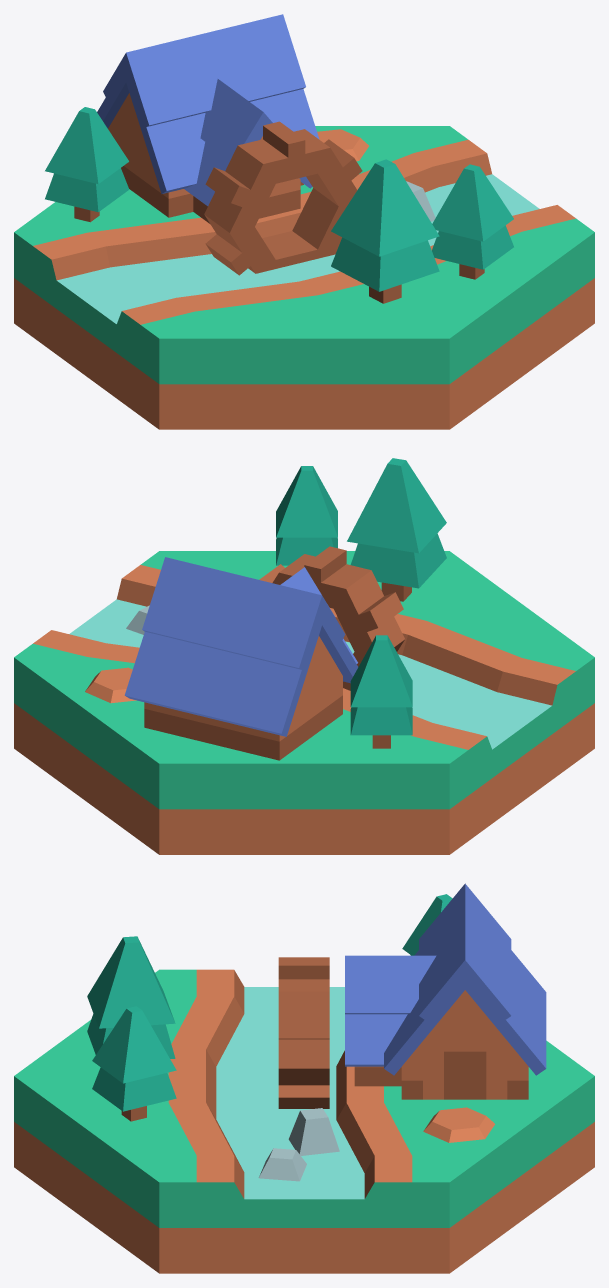
Rendered from Building Water.glb.
3 views of the same model, one above another, from view 1: azimuth 30°, elevation 25°; view 2: azimuth 150°, elevation 25°; view 3: azimuth 270°, elevation 25° (orthographic).
Parts seen in each view (by area): view 1: building_water, building, wheel, tree.001, tree.002, tree, path; view 2: building_water, building, tree.001, wheel, tree.002, tree, path; view 3: building_water, building, wheel, tree, tree.001, path, rock.001, rock, tree.002.
Boxes of the visible parts, bbox=[...] form: building_water: bbox=[14, 126, 594, 429]; building: bbox=[97, 14, 319, 223]; wheel: bbox=[204, 121, 362, 275]; tree.001: bbox=[331, 159, 439, 303]; tree.002: bbox=[45, 107, 129, 222]; tree: bbox=[432, 164, 513, 279]; path: bbox=[317, 129, 368, 161]; building_water: bbox=[14, 551, 594, 854]; building: bbox=[124, 557, 358, 760]; tree.001: bbox=[347, 458, 446, 601]; wheel: bbox=[259, 546, 404, 690]; tree.002: bbox=[350, 635, 412, 748]; tree: bbox=[276, 466, 337, 565]; path: bbox=[85, 667, 136, 703]; building_water: bbox=[14, 969, 594, 1273]; building: bbox=[345, 883, 546, 1099]; wheel: bbox=[278, 957, 329, 1108]; tree: bbox=[92, 1006, 176, 1121]; tree.001: bbox=[87, 936, 175, 1058]; path: bbox=[423, 1107, 494, 1142]; rock.001: bbox=[288, 1108, 339, 1155]; rock: bbox=[259, 1148, 306, 1181]; tree.002: bbox=[402, 894, 452, 955].
Bounding box in the file's own units: 1 × 0.5176 × 1.15.
